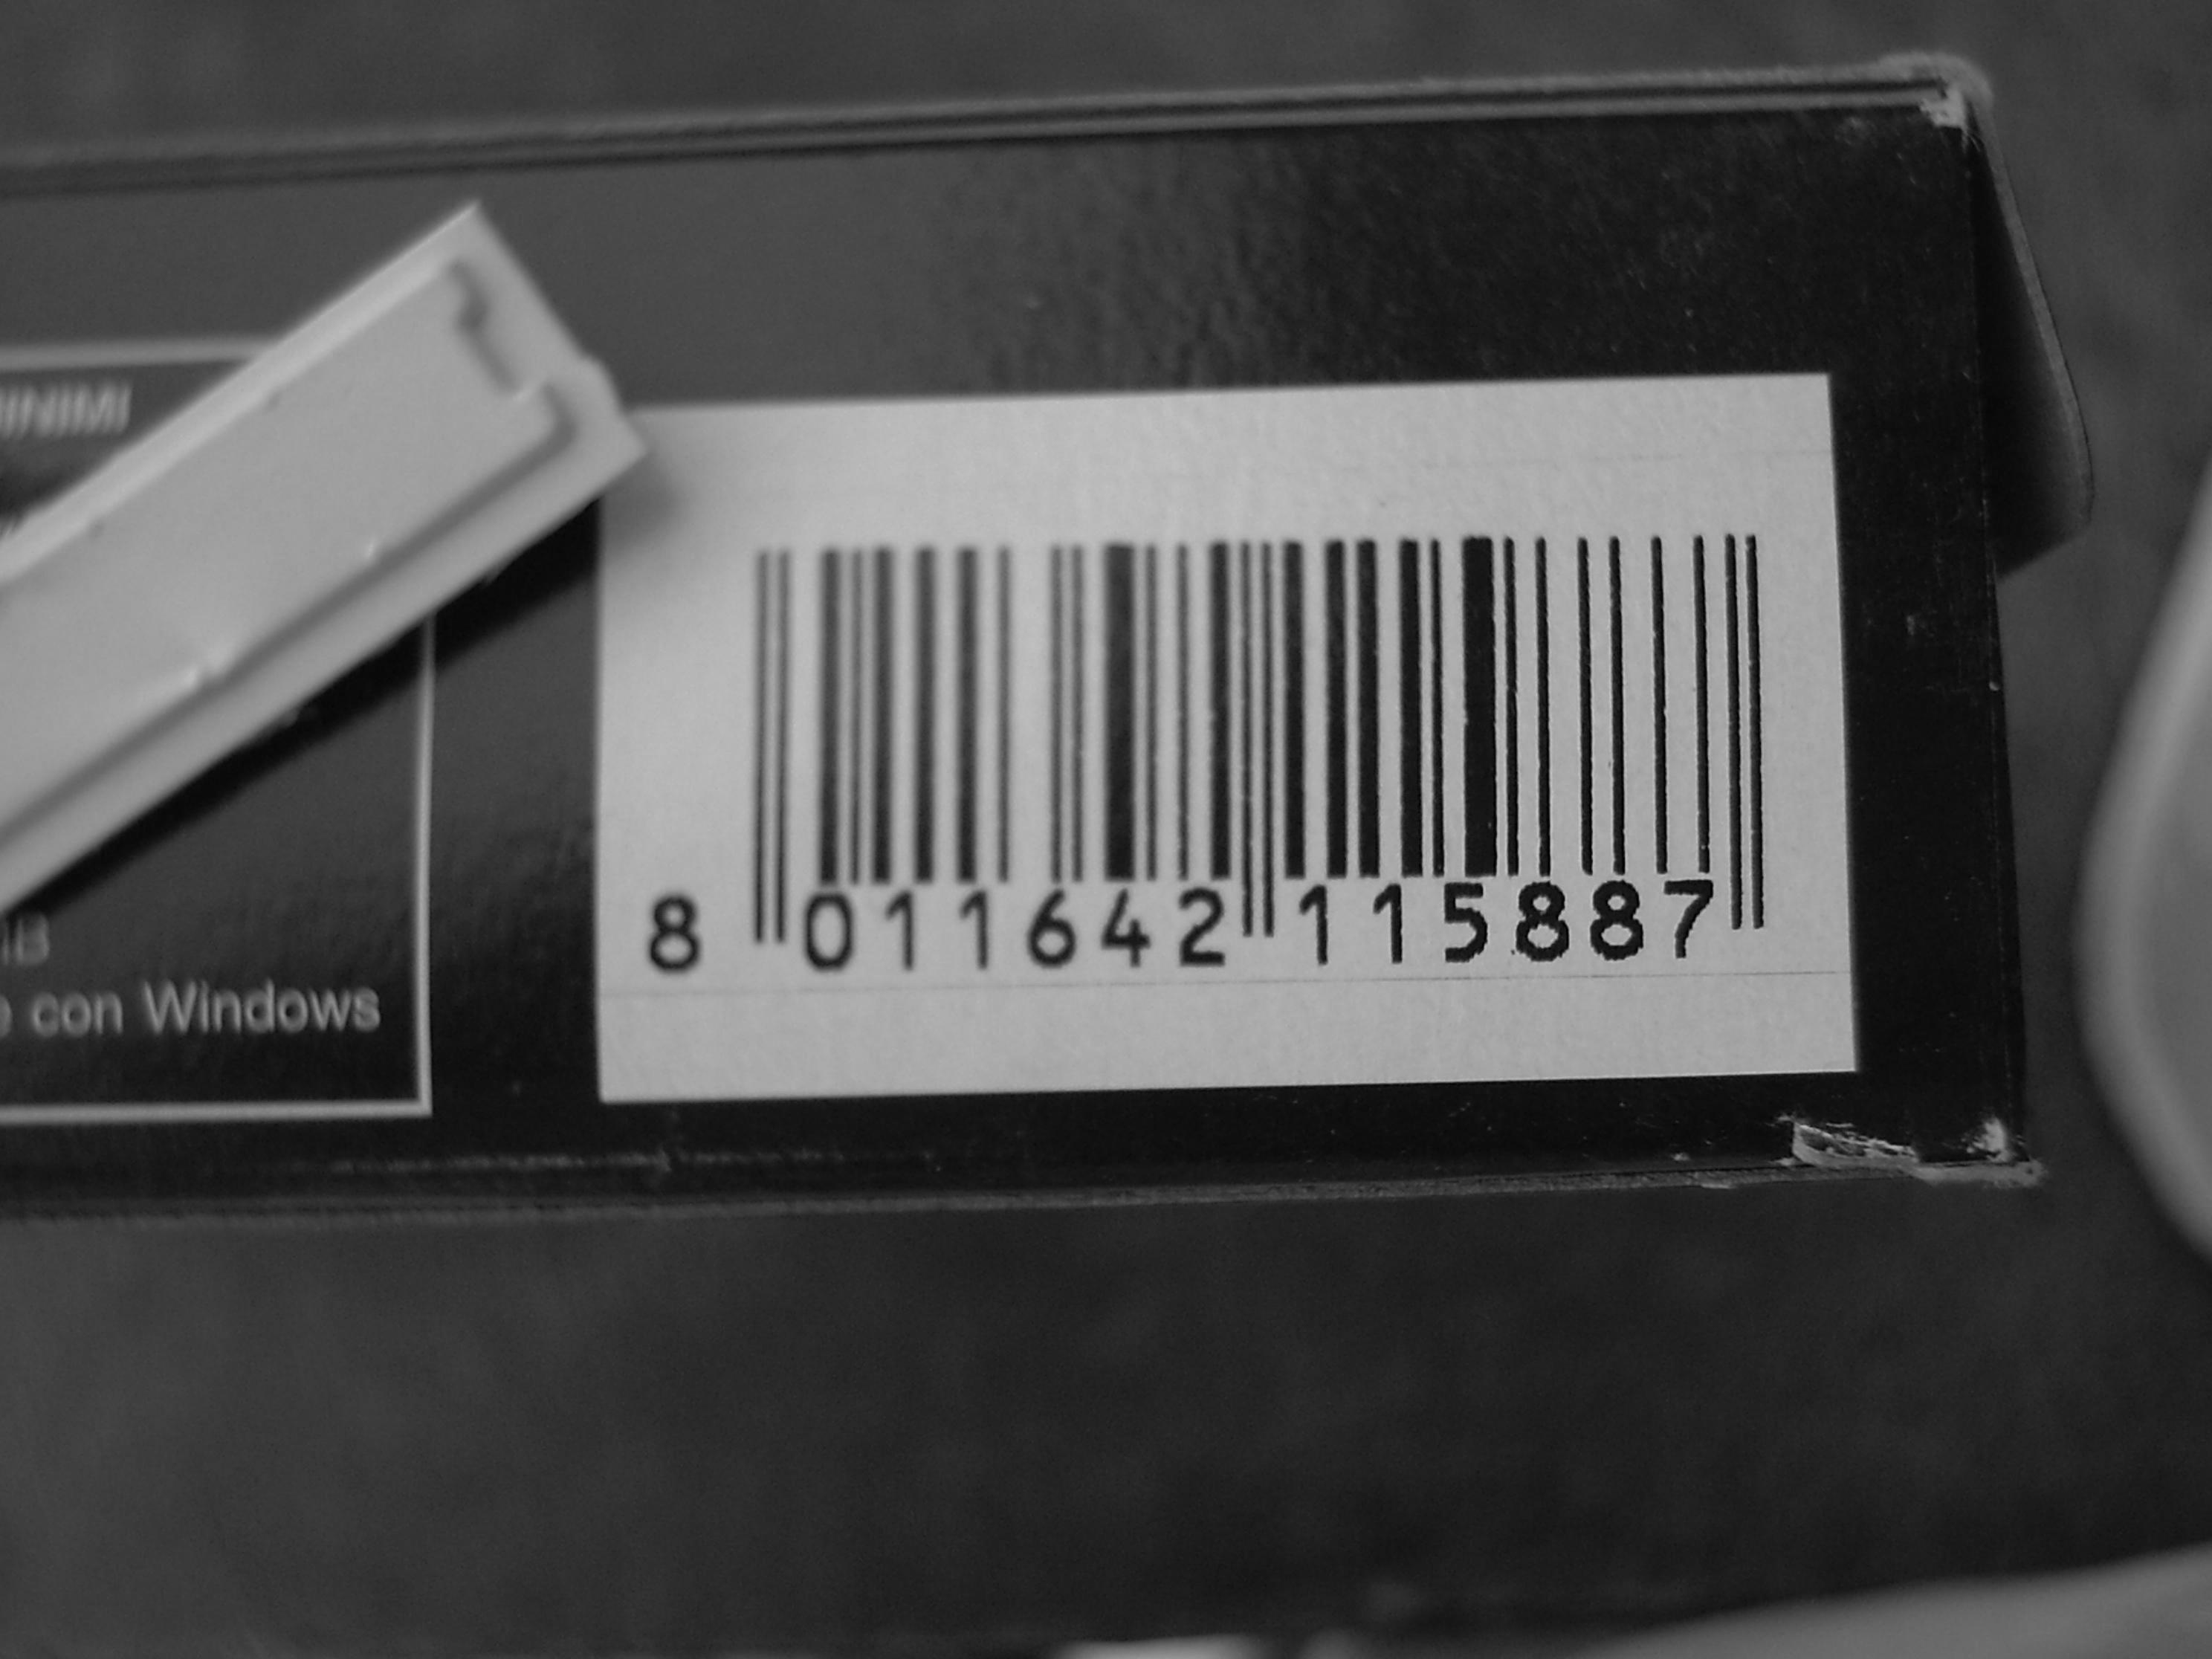Barcode: (723, 535, 1801, 969)
